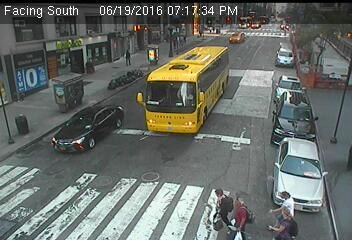neg: (322, 51, 345, 82), (172, 80, 192, 106), (276, 103, 295, 129), (312, 36, 329, 58), (206, 73, 222, 94), (187, 84, 202, 105), (148, 31, 162, 50)
pos: (192, 183, 227, 230), (224, 195, 254, 234), (272, 203, 296, 236), (120, 48, 134, 67)
